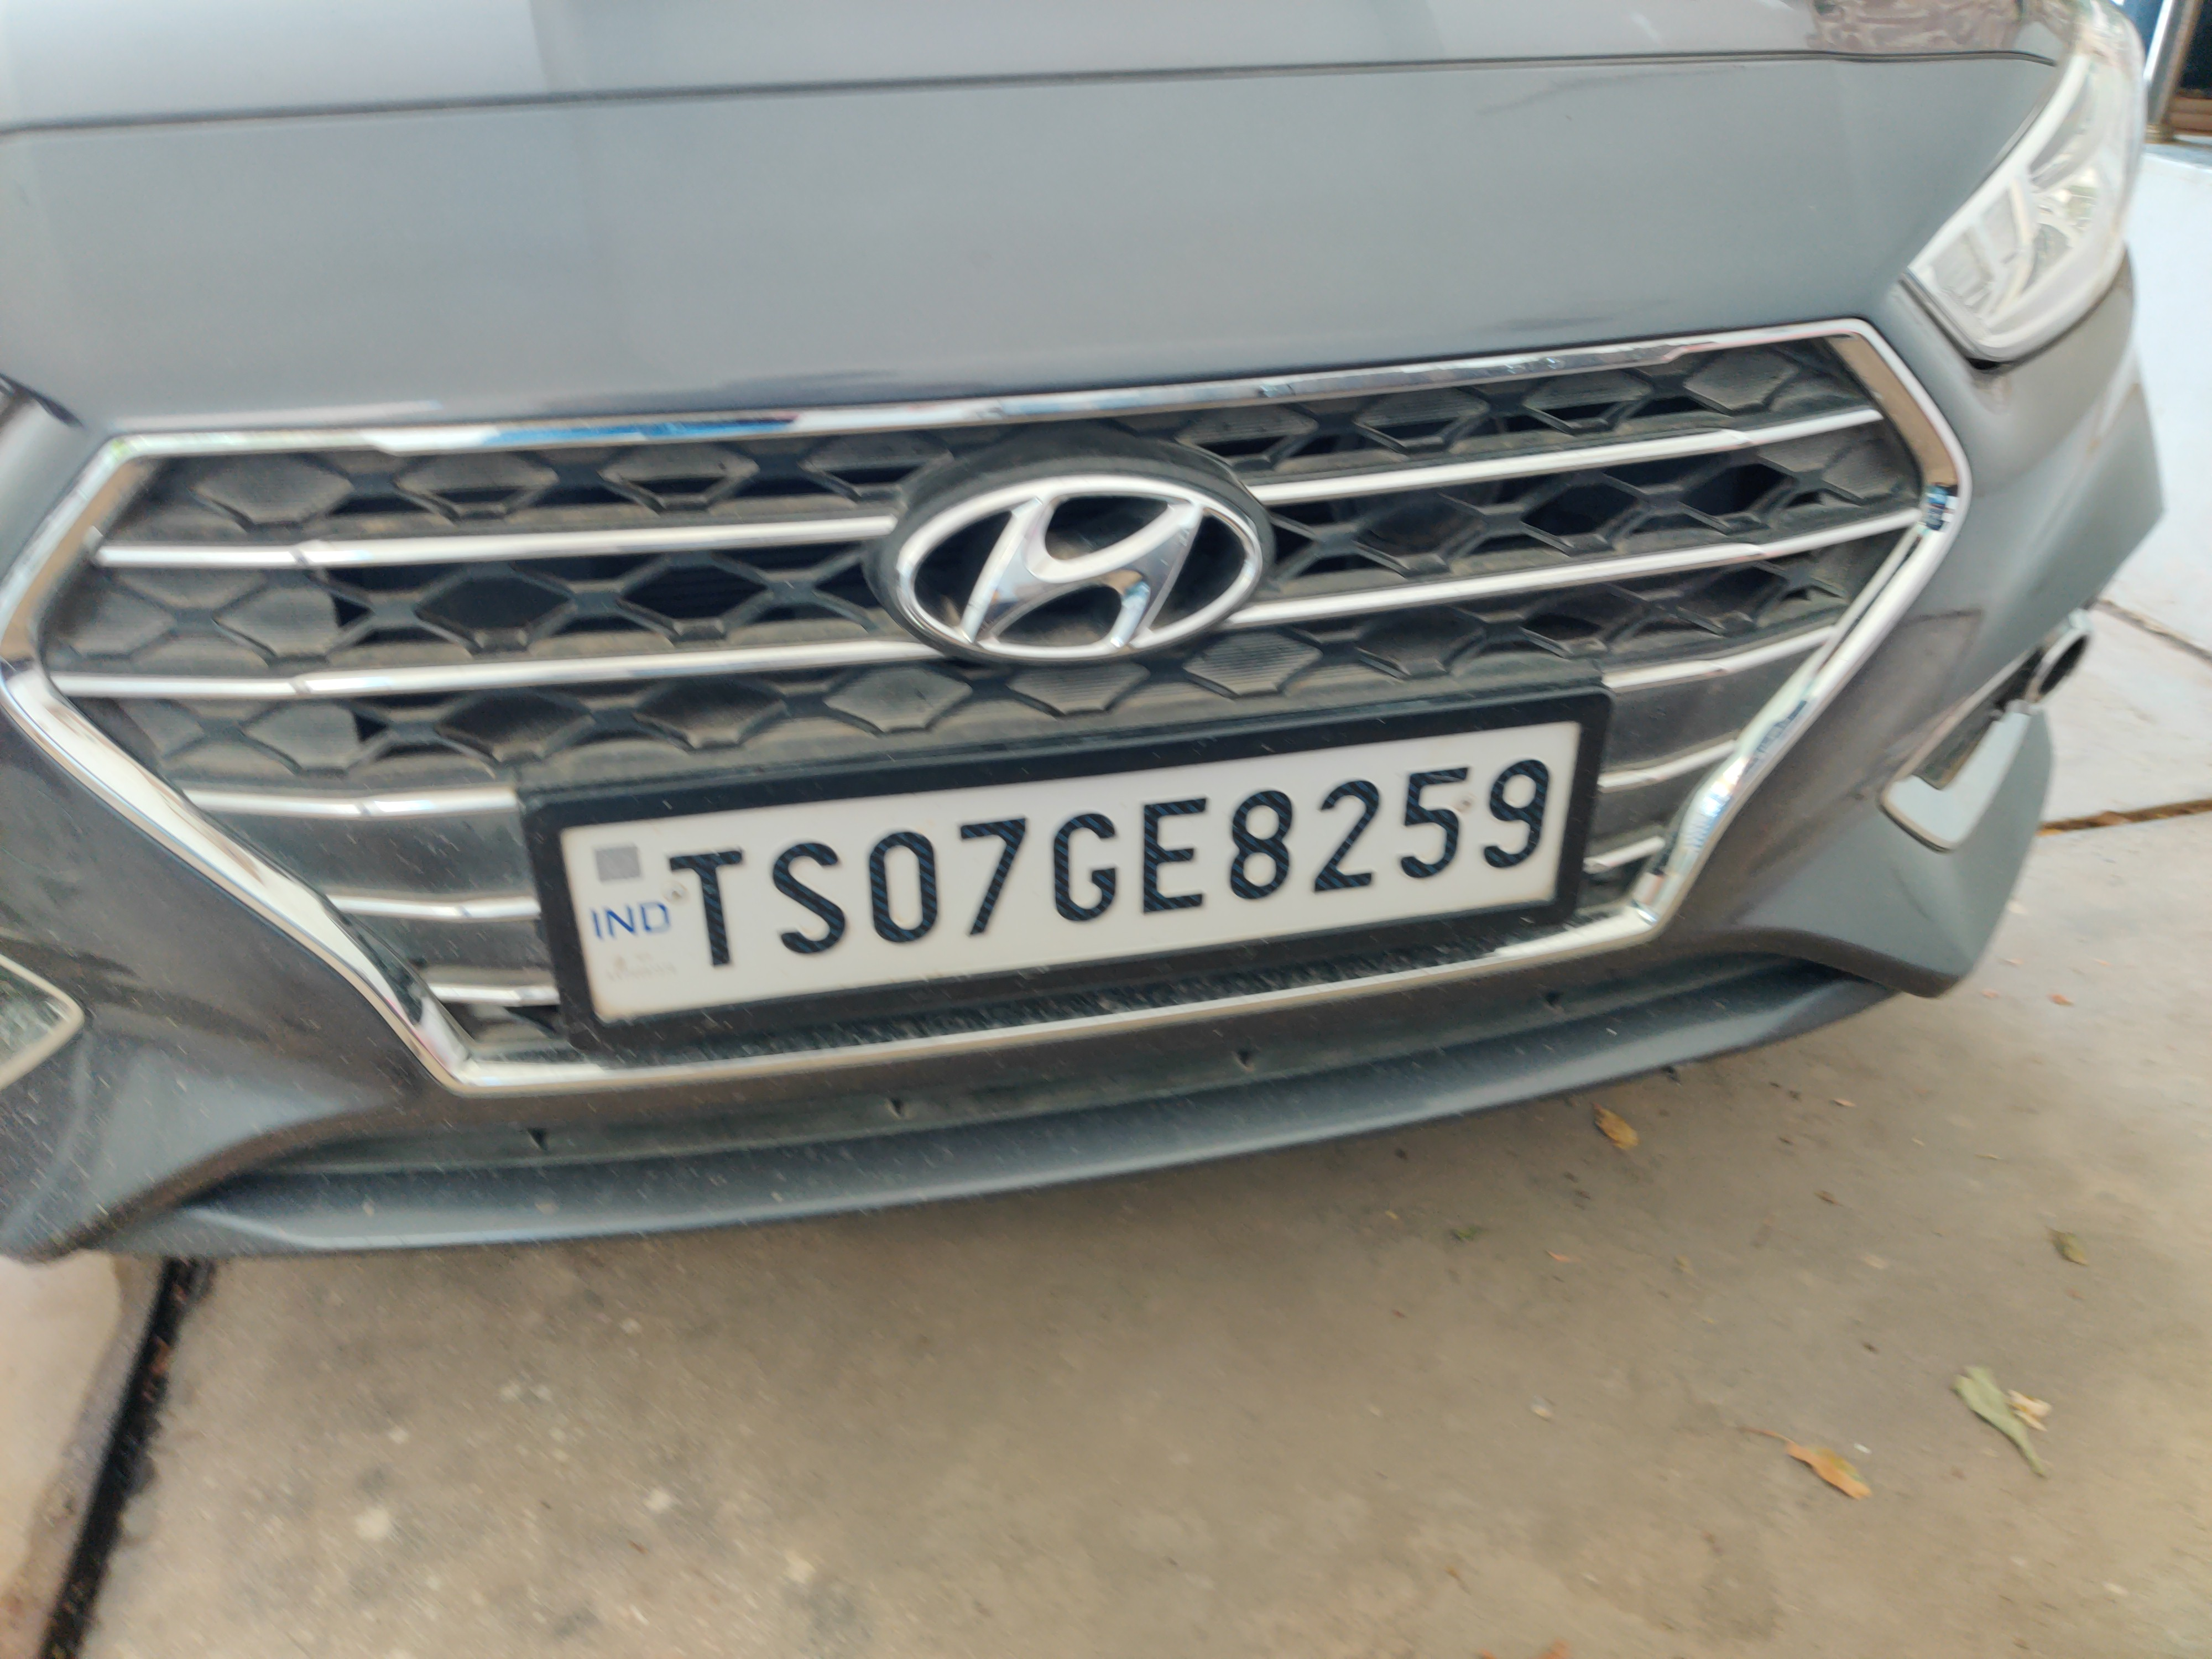plate: (498, 679, 1636, 1062)
